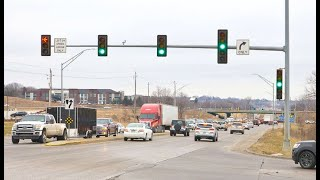greenlight: (96, 49, 109, 58), (216, 43, 229, 50), (156, 50, 168, 57), (274, 81, 286, 88)
